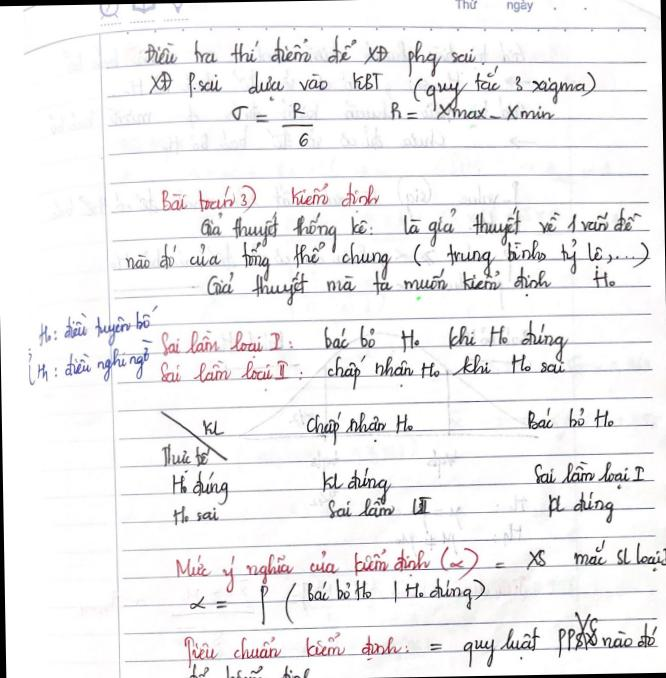text: (184, 608, 660, 676), (120, 234, 650, 286), (144, 61, 600, 114), (198, 203, 645, 254), (203, 262, 620, 310), (140, 32, 481, 84), (184, 574, 488, 630), (172, 544, 482, 596), (320, 318, 573, 366), (323, 349, 569, 392), (160, 178, 382, 215), (492, 536, 666, 579), (33, 302, 160, 350), (34, 337, 152, 385), (154, 357, 290, 394), (228, 95, 317, 150), (387, 96, 557, 124), (302, 409, 416, 447), (530, 456, 648, 492), (158, 327, 284, 358), (323, 492, 433, 522), (320, 465, 394, 504), (522, 403, 618, 433), (544, 489, 618, 527), (185, 657, 316, 678), (169, 468, 231, 504), (158, 441, 212, 475), (167, 502, 220, 528), (202, 418, 226, 437), (502, 0, 534, 13), (450, 0, 477, 12)
